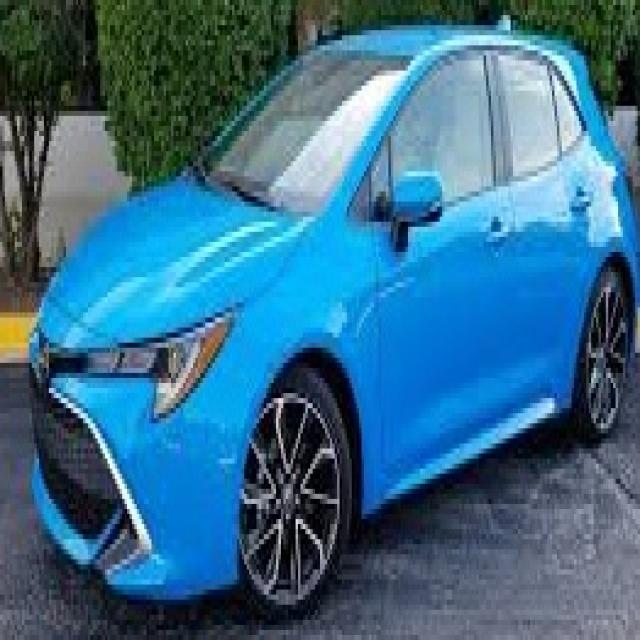blue: (31, 4, 640, 640)
